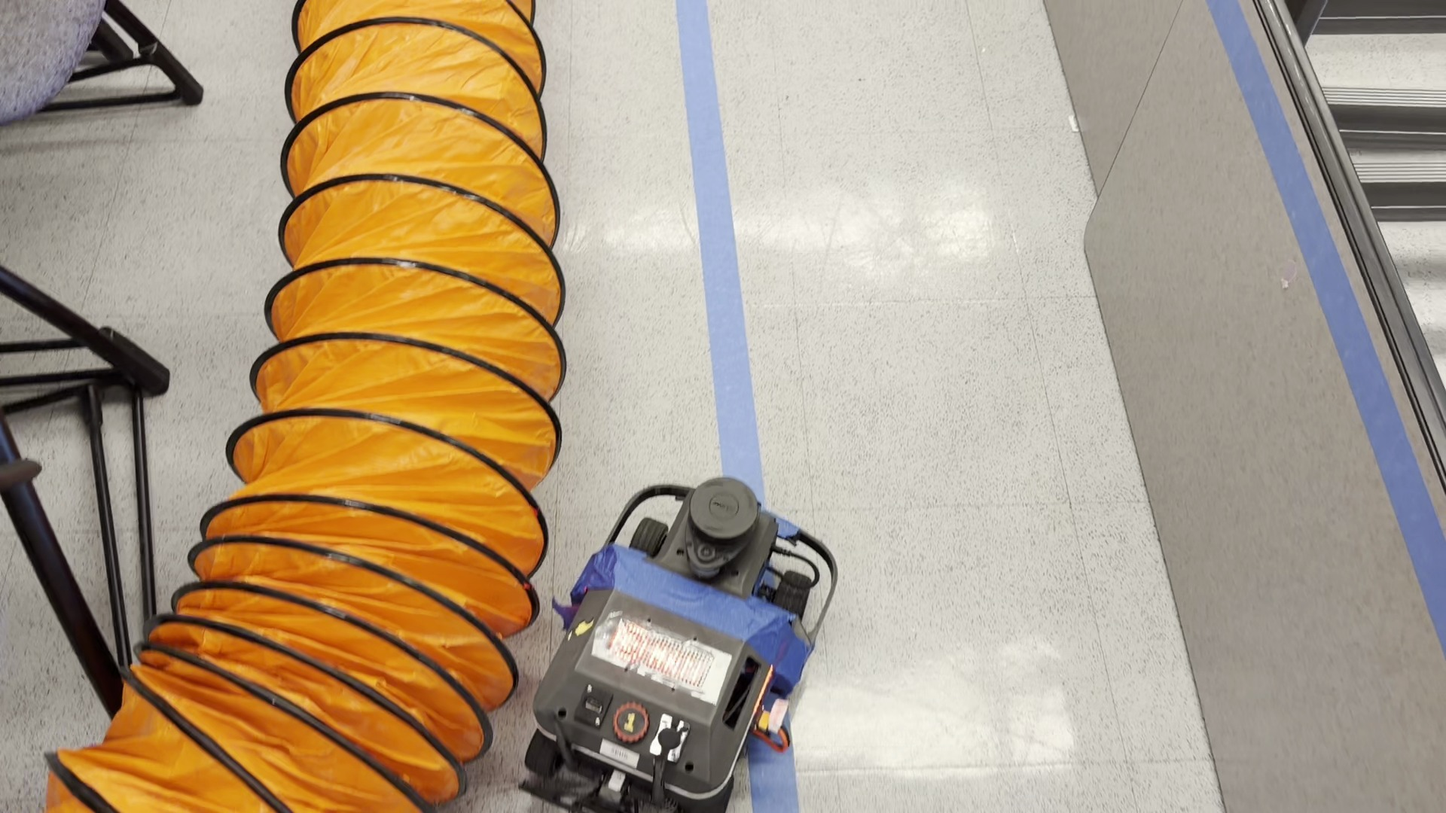racecar: (519, 476, 835, 813)
